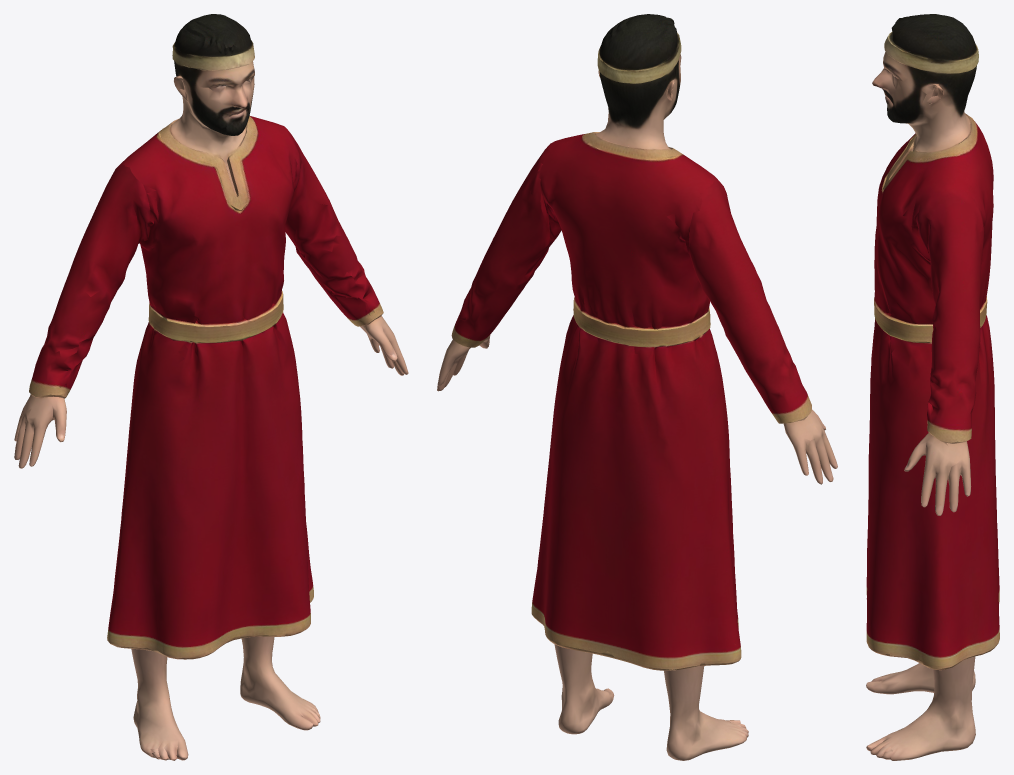
The model's file is agrippas_1.glb.
The picture shows the model from 3 angles, left to right: view 1: azimuth 30°, elevation 25°; view 2: azimuth 150°, elevation 25°; view 3: azimuth 270°, elevation 25°; orthographic projection.
Visible parts, largest first — view 1: Mesh; view 2: Mesh; view 3: Mesh.
Boxes of the visible parts, x1,y1,x2,y2 form: Mesh: [14, 14, 408, 760]; Mesh: [437, 14, 837, 760]; Mesh: [866, 14, 999, 760].
Bounding box in the file's own units: 1.08 × 1.9 × 0.3267.
1 material, 1 textured.
